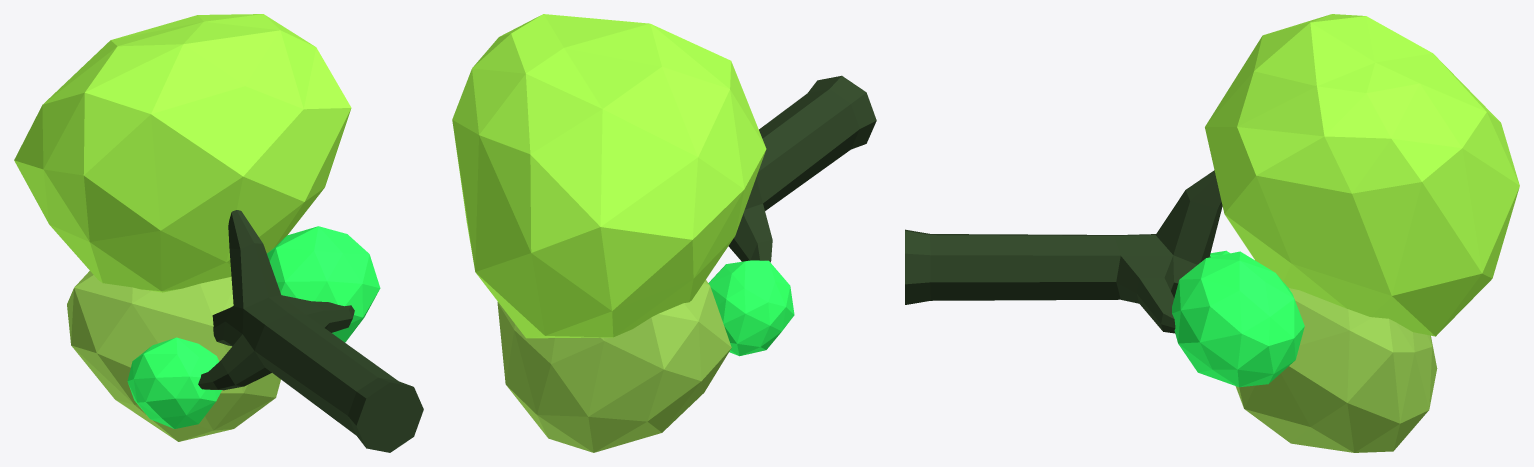
The model's file is OakTree_1.fbx.
The picture shows the model from 3 angles, left to right: view 1: azimuth 30°, elevation 25°; view 2: azimuth 150°, elevation 25°; view 3: azimuth 270°, elevation 25°; orthographic projection. The views are drawn at different scales.
Visible parts, largest first — view 1: OakTree_1; view 2: OakTree_1; view 3: OakTree_1.
Boxes of the visible parts, x1=… form: OakTree_1: x1=14, y1=14, x2=423, y2=452; OakTree_1: x1=452, y1=14, x2=876, y2=452; OakTree_1: x1=905, y1=14, x2=1519, y2=452.
Bounding box in the file's own units: 208 × 291 × 400.
